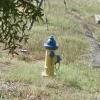Hydrant: (36, 31, 66, 80)
